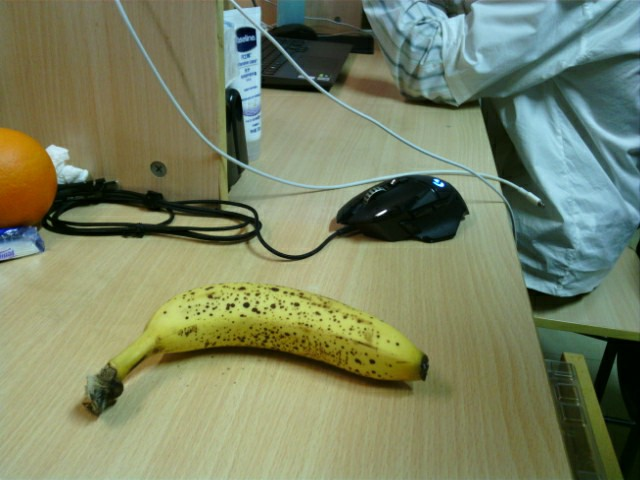normal_banana: (86, 282, 427, 420)
normal_orange: (1, 126, 57, 220)
